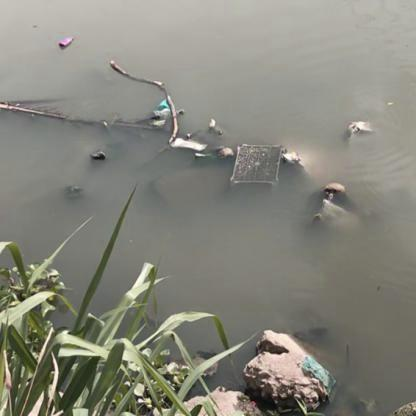Plastic: (56, 34, 79, 48)
Trash: (228, 141, 284, 185), (300, 350, 338, 390)
